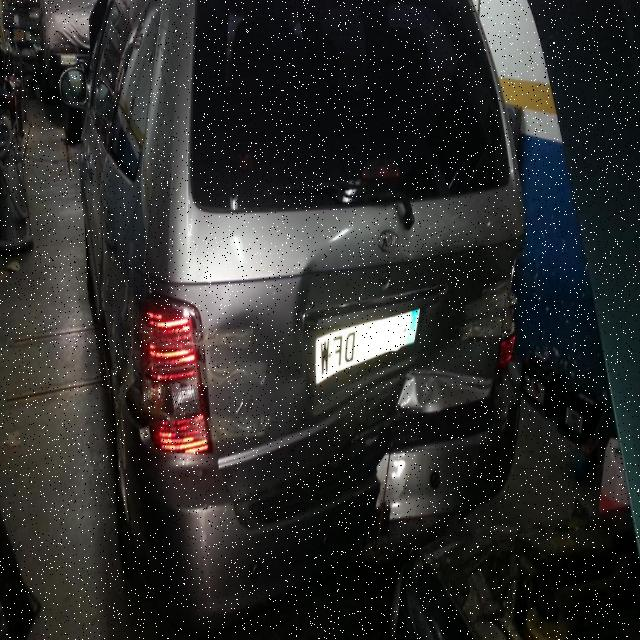damage: (216, 249, 521, 522)
